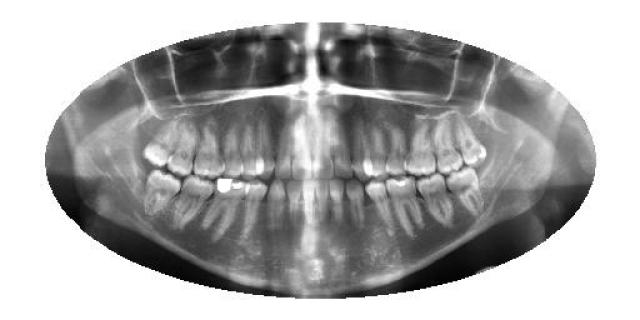Fillings: (202, 178, 248, 242)
